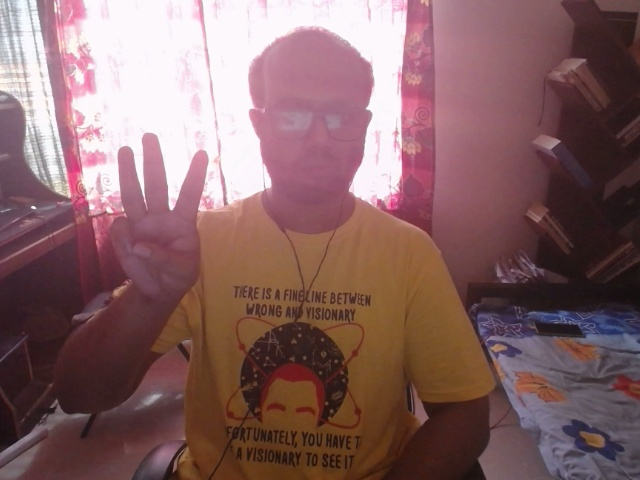three: (84, 114, 243, 304)
